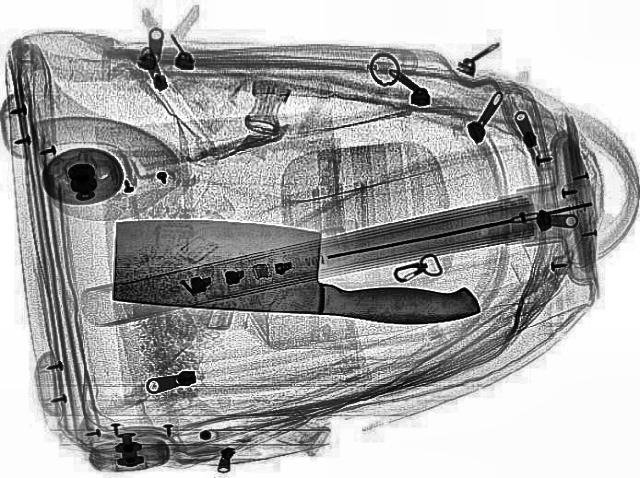Knife: (104, 213, 490, 328)
